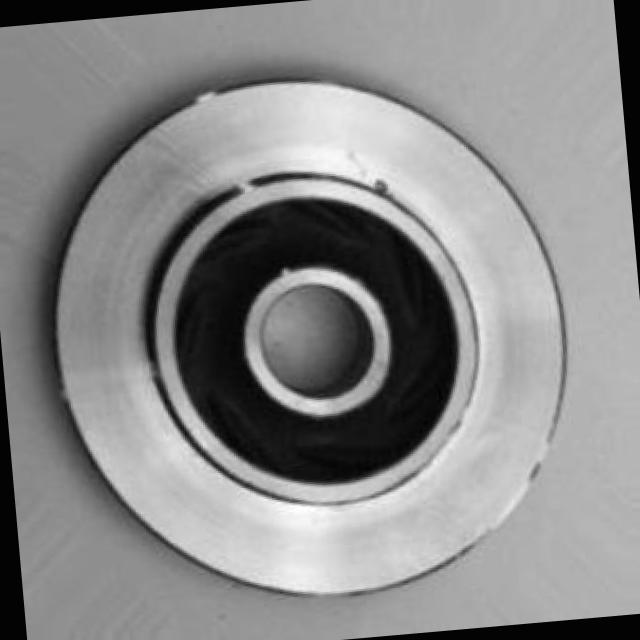Defect: (368, 167, 398, 206)
